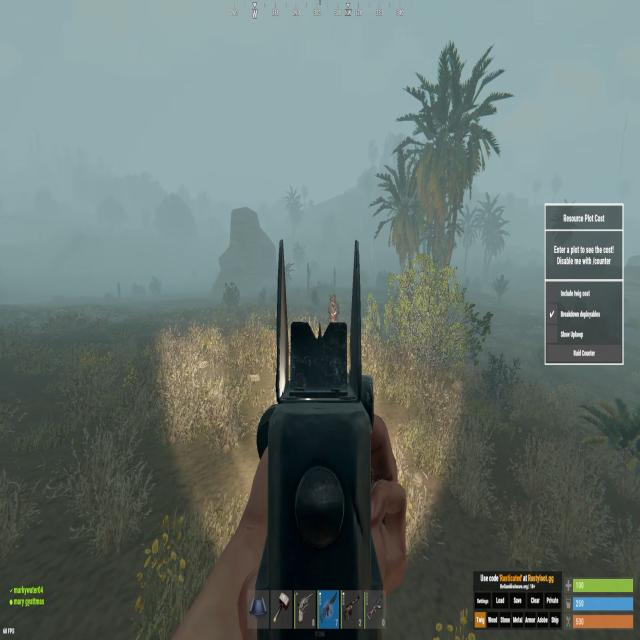Player: (328, 293, 340, 322)
